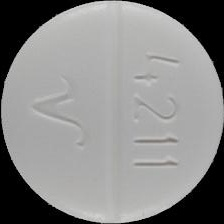0440-1740: (0, 0, 224, 224)
